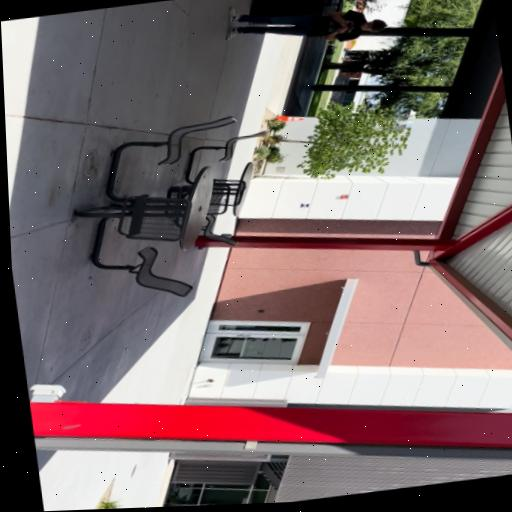target2: (299, 203, 309, 209)
